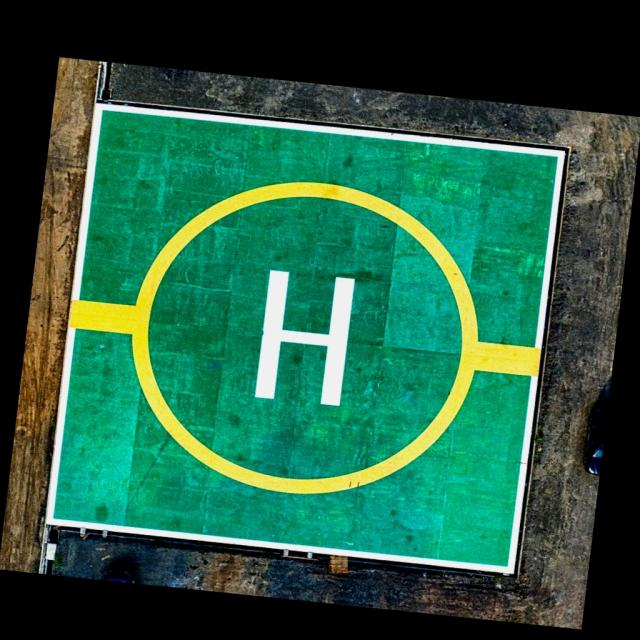helipad: (130, 176, 482, 502)
